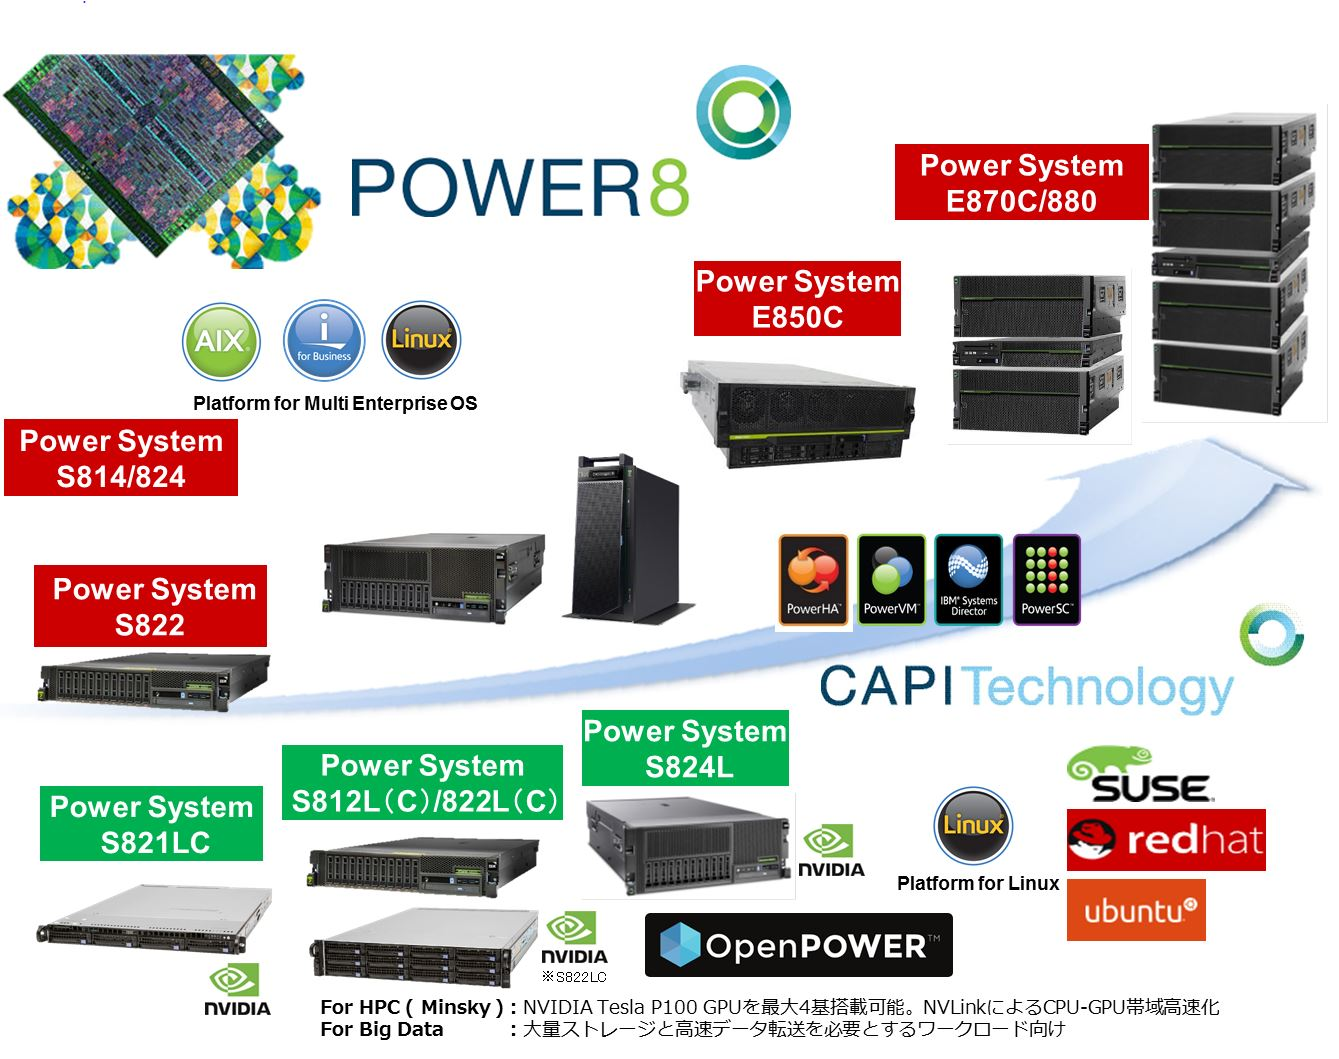ibm-server: (1152, 90, 1315, 425), (937, 257, 1137, 450), (671, 350, 922, 475), (555, 444, 712, 637), (300, 522, 550, 632), (24, 871, 283, 959), (575, 792, 802, 890), (299, 902, 540, 991), (296, 831, 552, 905)
